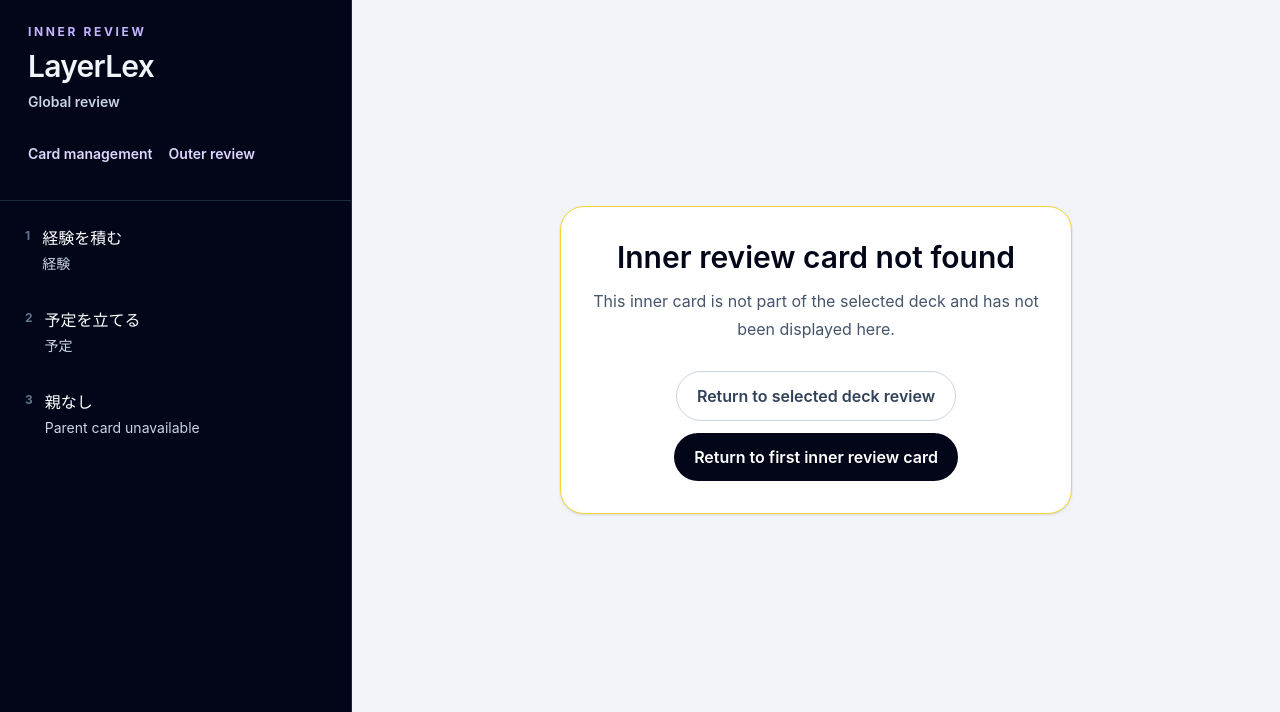
Test case: inner review deck states and routing › shows unknown-card recovery before returning to the first card
Expected: the message shows "Inner review card not found", [617,239,1015,275]
Click the button "Return to first inner review card" at (816, 457), box [674,433,958,481]
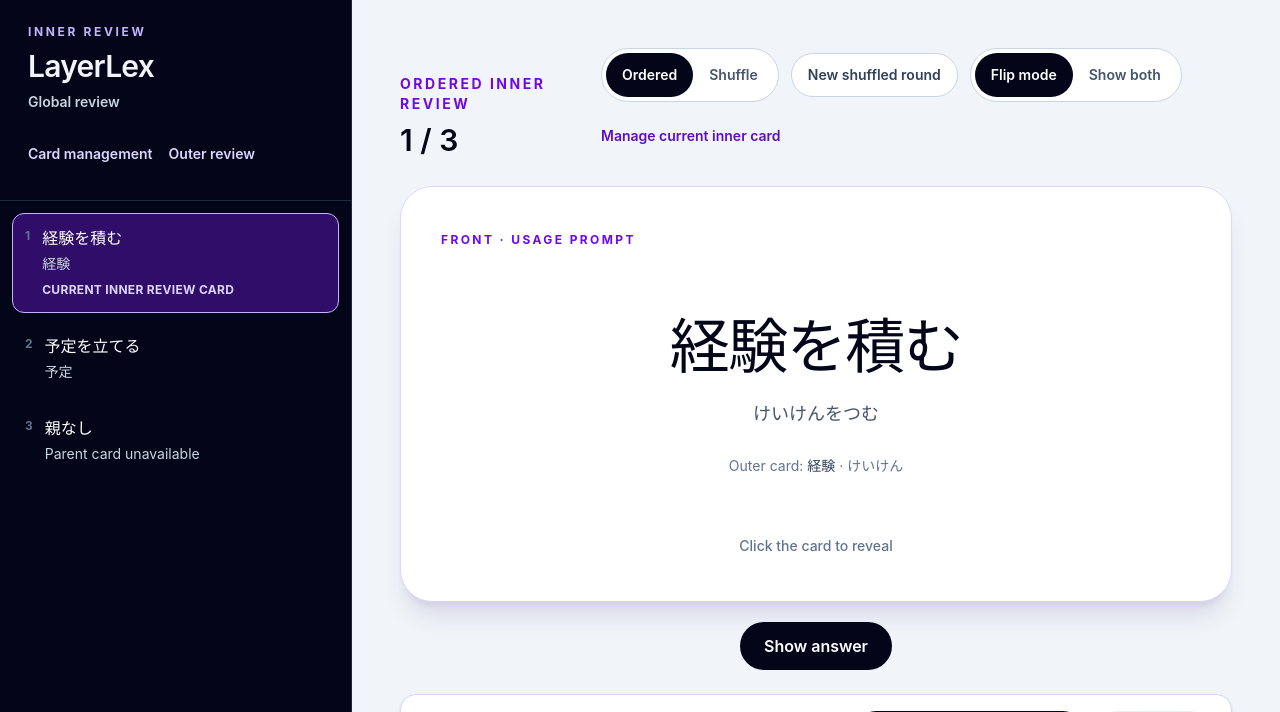
Expected: the text named "Inner review progress" reads "1 / 3", [400,122,458,158]
